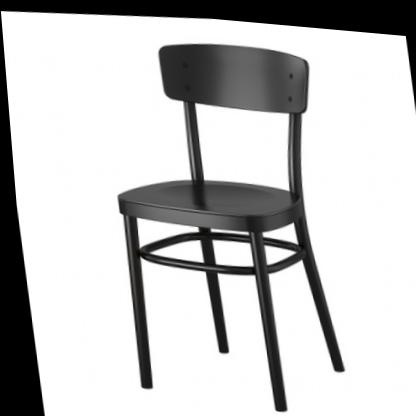Chair: (85, 22, 352, 416)
